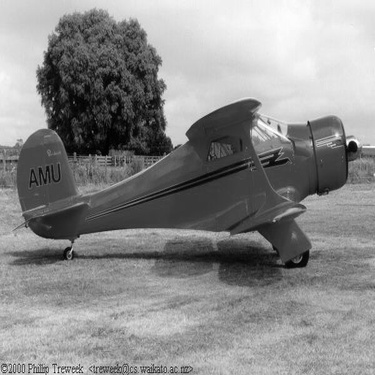airplane: (12, 89, 361, 276)
